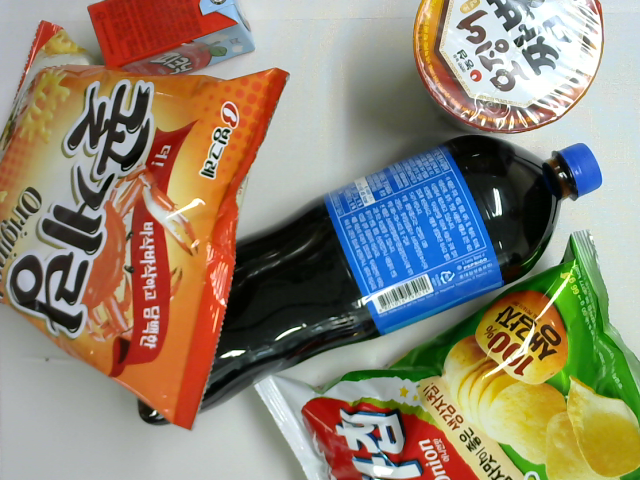Crabrang: (1, 21, 290, 432)
Ojjam: (412, 1, 605, 135)
Pepsi_Cola_1.5L: (135, 135, 602, 427)
Picnic_Apple: (87, 1, 255, 80)
Pocachip_Onion: (249, 231, 639, 480)
